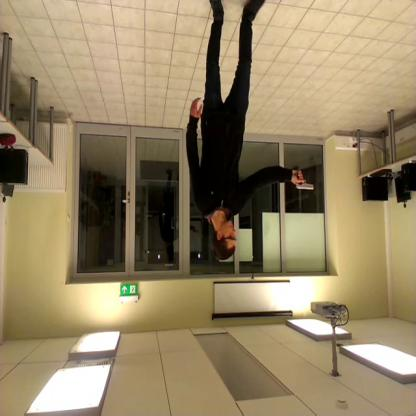Pistol: (287, 170, 319, 199)
